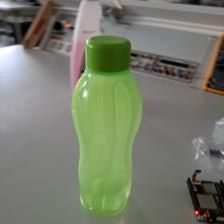bottle: (72, 31, 143, 216)
